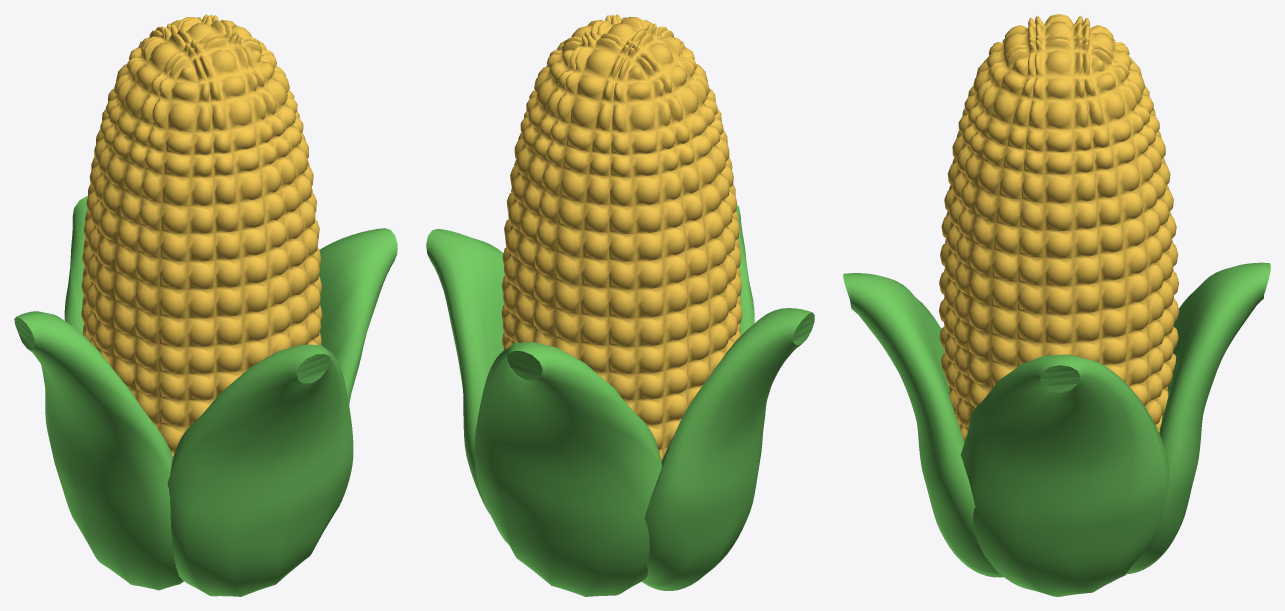
File: Corn.fbx
3 renders of one model, left to right at view 1: azimuth 30°, elevation 25°; view 2: azimuth 150°, elevation 25°; view 3: azimuth 270°, elevation 25°, orthographic.
Parts seen in each view (by area): view 1: Corn; view 2: Corn; view 3: Corn.
Boxes of the visible parts, x1,y1,x2,y2 form: Corn: (14, 14, 397, 596); Corn: (426, 14, 814, 596); Corn: (843, 14, 1270, 596).
Bounding box in the file's own units: 342 × 481 × 342.
